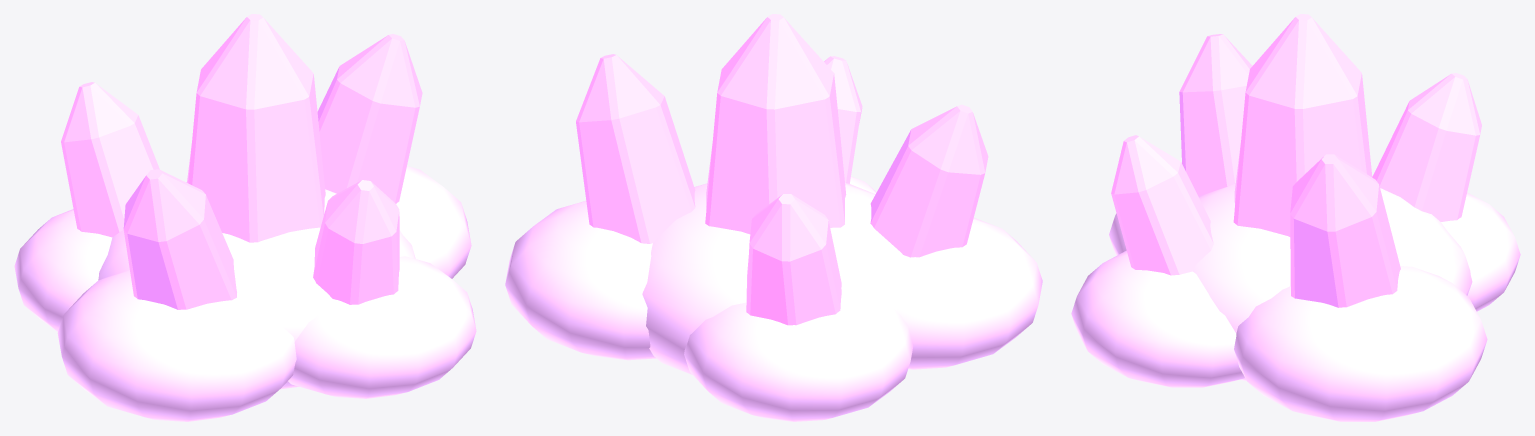
Rendered from nevoa_prisma.glb.
3 views of the same model, side by side, from view 1: azimuth 30°, elevation 25°; view 2: azimuth 150°, elevation 25°; view 3: azimuth 270°, elevation 25° (orthographic).
Visible parts, largest first — view 1: NevoaPrismaMesh; view 2: NevoaPrismaMesh; view 3: NevoaPrismaMesh.
Part boxes in pixels (box(x1,y1,x2,y2)): NevoaPrismaMesh: box(14, 14, 476, 421); NevoaPrismaMesh: box(505, 14, 1042, 421); NevoaPrismaMesh: box(1071, 14, 1520, 421).
Bounding box in the file's own units: 1.3 × 0.9834 × 1.16.
